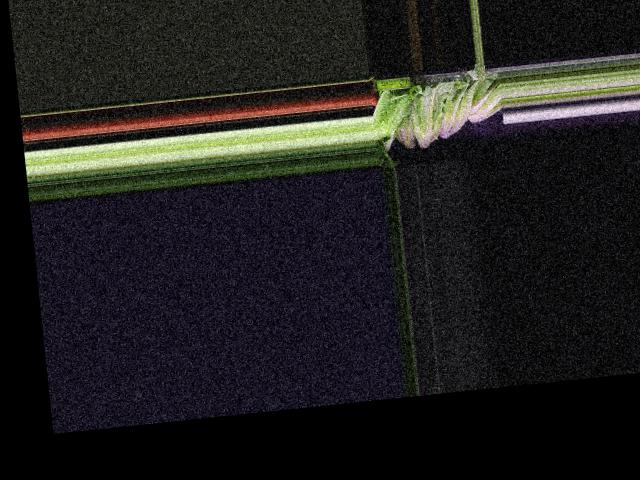lettuce: (461, 80, 504, 125)
